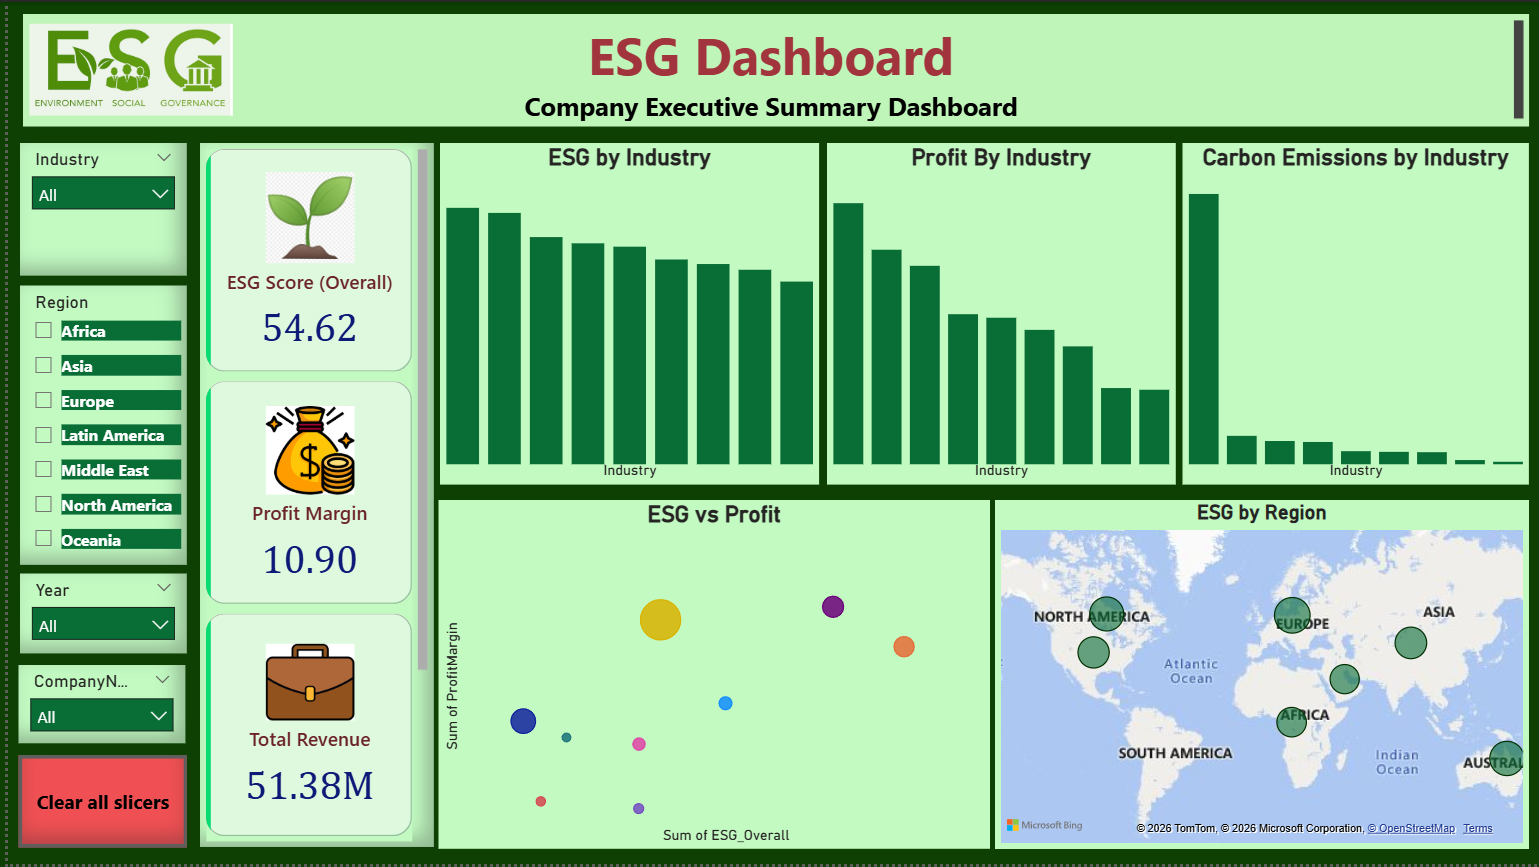

The page's visual inventory and layout, read from the dashboard file:
{"tool":"powerbi","page":{"name":"Executive Summary","canvas":[1280,720],"ordinal":0},"visuals":[{"type":"textbox","box":[12.1,10.6,1258.3,94],"z":0},{"type":"image","box":[12.1,7.6,180.2,98.4],"z":1000},{"type":"clusteredColumnChart","title":"ESG by Industry","fields":{"Category":["new_esg_project avg_esg_by_industry.Industry"],"Y":["Sum(new_esg_project avg_esg_by_industry.AvgESG)"]},"box":[360.8,118.2,316.8,285],"z":2000},{"type":"clusteredColumnChart","title":"Profit By Industry","fields":{"Category":["new_esg_project avg_avgprofit_by_industry.Industry"],"Y":["Sum(new_esg_project avg_avgprofit_by_industry.AvgProfit)"]},"box":[683.7,118.2,291.1,285],"z":3000},{"type":"clusteredColumnChart","title":"Carbon Emissions by Industry","fields":{"Category":["new_esg_project company_esg.Industry"],"Y":["new_esg_project company_esg.Total_Carbon_Emissions"]},"box":[980.9,118.2,289.6,285],"z":4000},{"type":"scatterChart","title":"ESG vs Profit","fields":{"X":["Sum(new_esg_project company_esg.ESG_Overall)"],"Y":["Sum(new_esg_project company_esg.ProfitMargin)"],"Series":["new_esg_project company_esg.Industry"],"Size":["Sum(new_esg_project company_esg.MarketCap)"]},"box":[359.3,415.4,460.9,291.1],"z":5000},{"type":"map","title":"ESG by Region","fields":{"Category":["new_esg_project company_esg.Region"],"Size":["new_esg_project avg_avgprofit_by_industry.Avg_ESG_Overall"]},"box":[824.7,415.4,445.7,291.1],"z":6000},{"type":"cardVisual","fields":{"Data":["new_esg_project avg_avgprofit_by_industry.Company_Avg_ESG_Overall","new_esg_project avg_avgprofit_by_industry.Avg_Profit_Margin","new_esg_project avg_avgprofit_by_industry.Total_Revenue","new_esg_project company_esg.Total_Carbon_Emissions"]},"box":[160.7,118.2,195.6,588.2],"z":7000},{"type":"slicer","fields":{"Values":["new_esg_project company_esg.Industry"]},"box":[10.6,118.2,139.5,110.7],"z":8000},{"type":"slicer","fields":{"Values":["new_esg_project company_esg.Region"]},"box":[10.6,236.5,139.5,233.5],"z":9000},{"type":"slicer","fields":{"Values":["new_esg_project company_esg.Year"]},"box":[10.6,477.5,139.5,66.7],"z":10000},{"type":"slicer","fields":{"Values":["new_esg_project company_esg.CompanyName"]},"box":[9.1,553.3,139.5,65.2],"z":11000},{"type":"actionButton","box":[9.1,629.1,141,77.3],"z":12000}]}

Visuals, with their boxes in screenshot pixels (x1, y1, x2, y2), scaled from the page's 1280x720 canvas onto the 1539x867 screenshot:
textbox: (left=15, top=13, right=1527, bottom=126)
image: (left=15, top=9, right=231, bottom=128)
"ESG by Industry" clusteredColumnChart: (left=434, top=142, right=815, bottom=486)
"Profit By Industry" clusteredColumnChart: (left=822, top=142, right=1172, bottom=486)
"Carbon Emissions by Industry" clusteredColumnChart: (left=1179, top=142, right=1528, bottom=486)
"ESG vs Profit" scatterChart: (left=432, top=500, right=986, bottom=851)
"ESG by Region" map: (left=992, top=500, right=1527, bottom=851)
cardVisual - new_esg_project avg_avgprofit_by_industry.Company_Avg_ESG_Overall x new_esg_project avg_avgprofit_by_industry.Avg_Profit_Margin: (left=193, top=142, right=428, bottom=851)
slicer - new_esg_project company_esg.Industry: (left=13, top=142, right=180, bottom=276)
slicer - new_esg_project company_esg.Region: (left=13, top=285, right=180, bottom=566)
slicer - new_esg_project company_esg.Year: (left=13, top=575, right=180, bottom=655)
slicer - new_esg_project company_esg.CompanyName: (left=11, top=666, right=179, bottom=745)
actionButton: (left=11, top=758, right=180, bottom=851)
